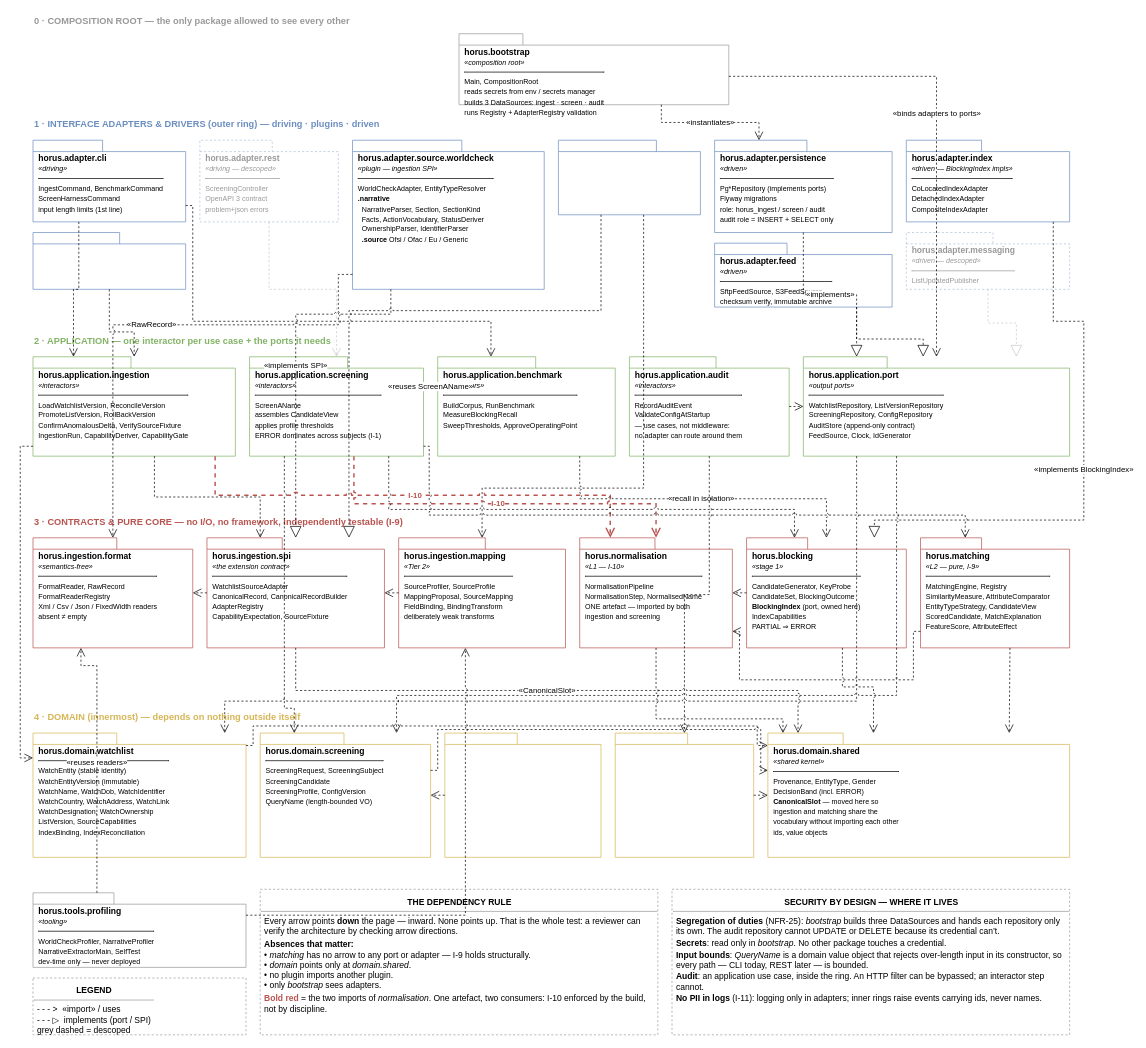
Image size: 1146x1048. Some labels were removed from this diagram. The centre of each missing label's shape, as x and y in pixels:
"horus.adapter.scheduler «driving» ScheduledLoadTrigger" goes at pixel 109 260.
"horus.adapter.source.mapped «plugin» MappedSourceAdapter (Tier 2 user lists)" goes at pixel 629 177.
"horus.domain.alert Alert AlertDispositionEvent (append-only) WhitelistEntry" goes at pixel 522 794.
"horus.domain.audit AuditEvent AuditEventType, ActorKind hash-chained" goes at pixel 684 794.
